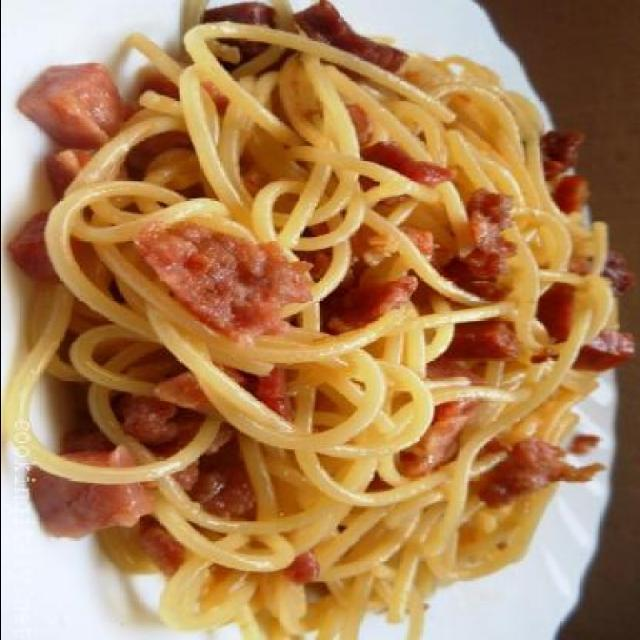Pasta with carbonara sauce: (8, 36, 616, 630)
